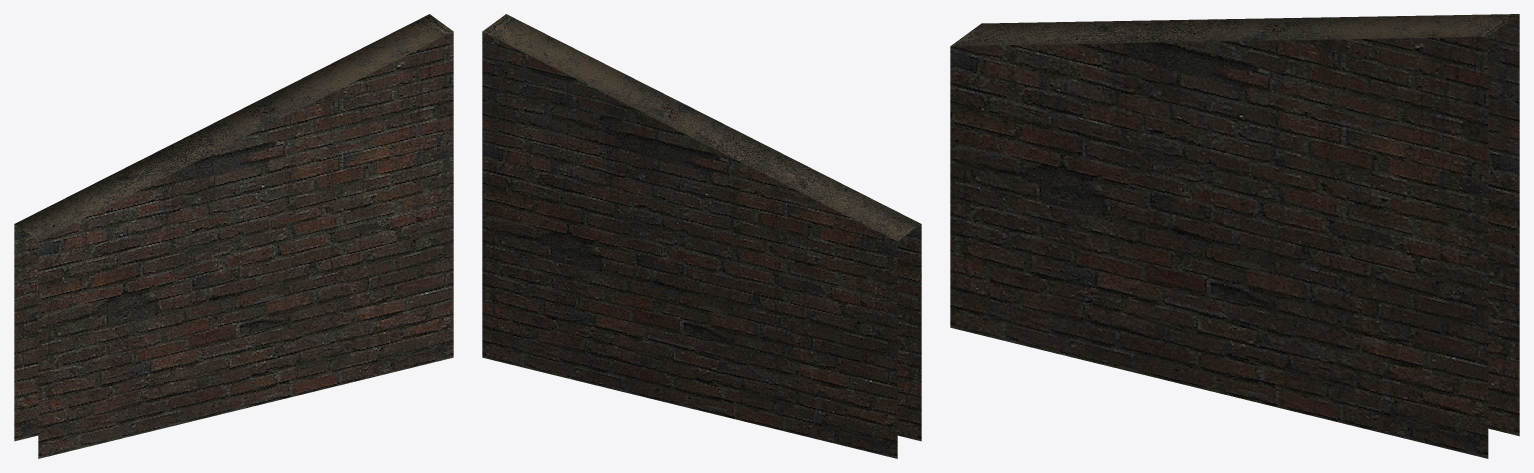
Rendered from wall_top_part_hs_3.glb.
3 renders of one model, left to right at view 1: azimuth 30°, elevation 25°; view 2: azimuth 150°, elevation 25°; view 3: azimuth 330°, elevation 25°, orthographic. The views are drawn at different scales.
Visible parts, largest first — view 1: wall_top_part_hs_3; view 2: wall_top_part_hs_3; view 3: wall_top_part_hs_3.
Boxes of the visible parts, x1,y1,x2,y2 form: wall_top_part_hs_3: [14, 14, 453, 458]; wall_top_part_hs_3: [482, 14, 921, 458]; wall_top_part_hs_3: [950, 14, 1519, 458].
Bounding box in the file's own units: 4 × 3 × 0.4.
Materials: 2 (2 with a texture image).
